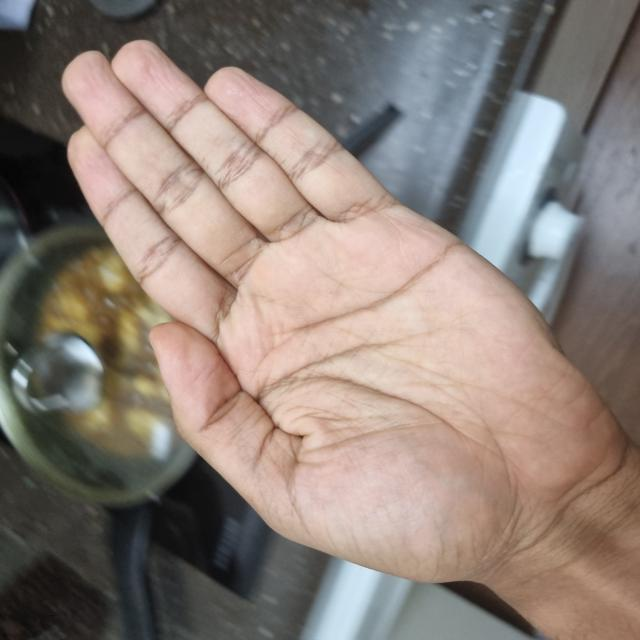Paper: (54, 150, 433, 616)
